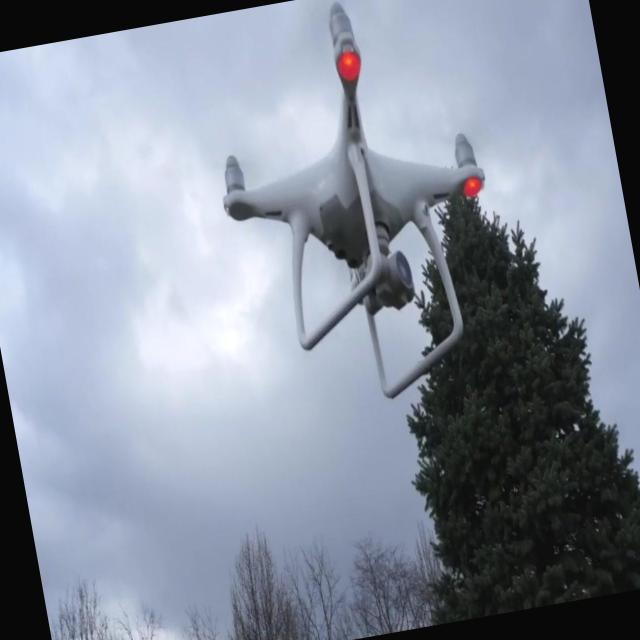drone: (185, 0, 524, 425)
